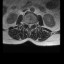CCS_normal: (29, 21, 30, 30)
LFS_normal: (32, 21, 34, 26)
LLS_stenosis: (30, 21, 32, 28)
RFS_stenosis: (25, 21, 27, 26)
RLS_normal: (27, 22, 29, 28)
